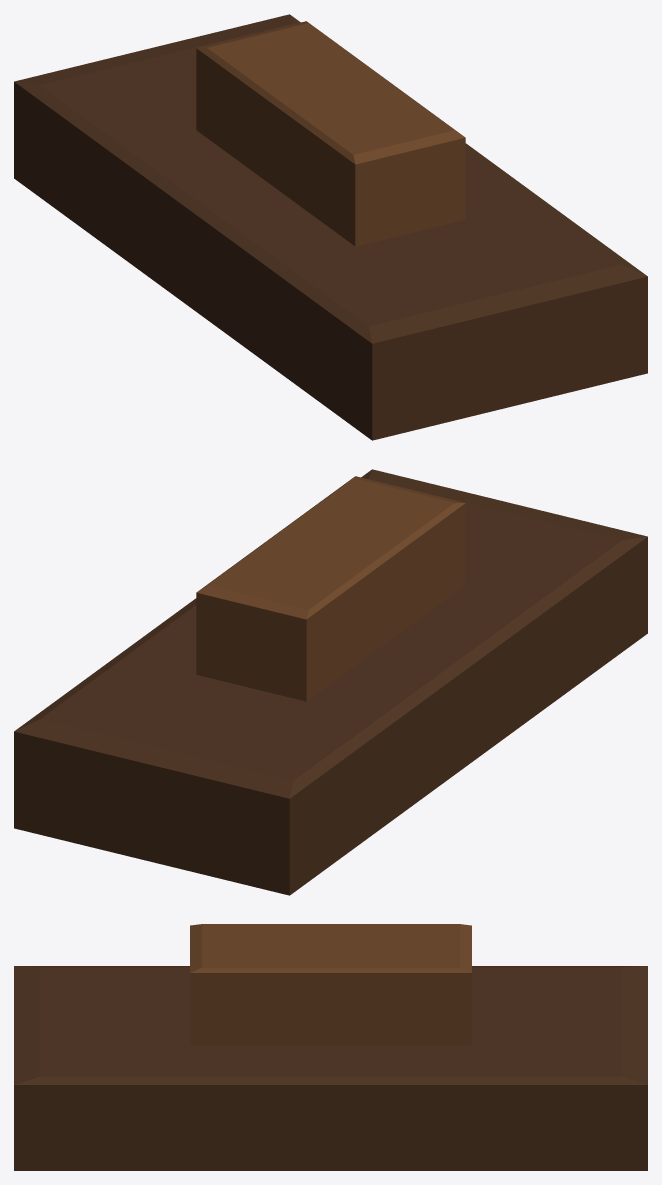
The model's file is WomensShoeIsland.glb.
3 views of the same model, one above another, from view 1: azimuth 30°, elevation 25°; view 2: azimuth 150°, elevation 25°; view 3: azimuth 270°, elevation 25° (orthographic). The views are drawn at different scales.
Parts seen in each view (by area): view 1: Cube.003, Cube.002; view 2: Cube.003, Cube.002; view 3: Cube.003, Cube.002.
Part boxes in pixels (x1=…): Cube.003: x1=14, y1=14, x2=647, y2=440; Cube.002: x1=196, y1=21, x2=465, y2=246; Cube.003: x1=14, y1=469, x2=647, y2=895; Cube.002: x1=196, y1=476, x2=465, y2=701; Cube.003: x1=14, y1=966, x2=647, y2=1170; Cube.002: x1=190, y1=924, x2=471, y2=1045.
Bounding box in the file's own units: 4 × 2.59 × 9.
